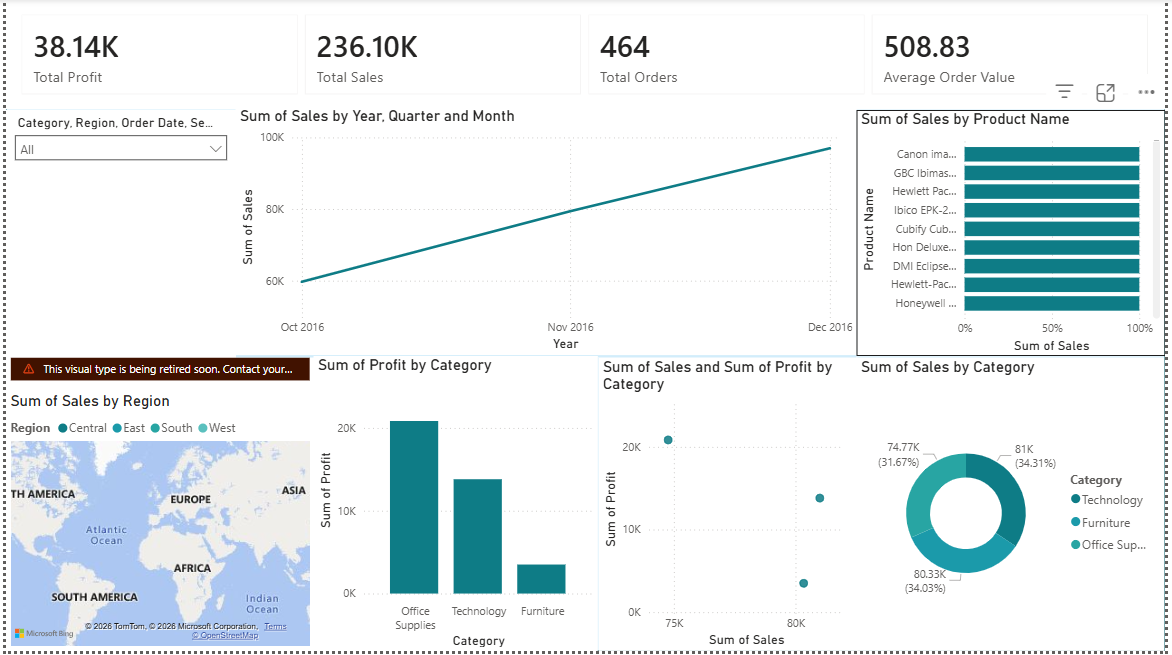

Layout of this report page (visuals, bound fields, positions):
{"tool":"powerbi","page":{"name":"Page 1","canvas":[1280,720],"ordinal":0},"visuals":[{"type":"shape","box":[0,0,1280,720],"z":0},{"type":"cardVisual","fields":{"Data":["Sum(Sample - Superstore.Profit)","Sum(Sample - Superstore.Sales)","Sample - Superstore.TotalOrders","Sample - Superstore.Average Order Value"]},"box":[0,0,1280,122],"z":1000},{"type":"lineChart","fields":{"Category":["Sample - Superstore.Order Date.Variation.Date Hierarchy.Year","Sample - Superstore.Order Date.Variation.Date Hierarchy.Quarter","Sample - Superstore.Order Date.Variation.Date Hierarchy.Month","Sample - Superstore.Order Date.Variation.Date Hierarchy.Day"],"Y":["Sum(Sample - Superstore.Sales)"]},"box":[254,120,686,274],"z":2000},{"type":"hundredPercentStackedBarChart","fields":{"Category":["Sample - Superstore.Product Name"],"Y":["Sum(Sample - Superstore.Sales)"]},"box":[940,122,340,272],"z":3000},{"type":"donutChart","fields":{"Category":["Sample - Superstore.Category"],"Y":["Sum(Sample - Superstore.Sales)"]},"box":[940,396,340,324],"z":4000},{"type":"clusteredColumnChart","fields":{"Category":["Sample - Superstore.Category"],"Y":["Sum(Sample - Superstore.Profit)"]},"box":[340,394,314,326],"z":6000},{"type":"scatterChart","fields":{"X":["Sum(Sample - Superstore.Sales)"],"Y":["Sum(Sample - Superstore.Profit)"],"Category":["Sample - Superstore.Category"]},"box":[654,396,286,324],"z":7000},{"type":"slicer","fields":{"Values":["Sample - Superstore.Category","Sample - Superstore.Region","Sample - Superstore.Order Date","Sample - Superstore.Segment"]},"box":[0,122,254,274],"z":8000},{"type":"filledMap","fields":{"Series":["Sample - Superstore.Region"]},"box":[0,396,340,324],"z":9002}]}

Visuals, with their boxes in screenshot pixels (x1, y1, x2, y2), scaled from the page's 1280x720 canvas onto the 1172x655 screenshot:
shape: 0,0,1171,654
cardVisual - Sum(Sample - Superstore.Profit) x Sum(Sample - Superstore.Sales): 0,0,1171,111
lineChart - Sample - Superstore.Order Date.Variation.Date Hierarchy.Year x Sample - Superstore.Order Date.Variation.Date Hierarchy.Quarter: 233,109,861,358
hundredPercentStackedBarChart - Sample - Superstore.Product Name x Sum(Sample - Superstore.Sales): 861,111,1171,358
donutChart - Sample - Superstore.Category x Sum(Sample - Superstore.Sales): 861,360,1171,654
clusteredColumnChart - Sample - Superstore.Category x Sum(Sample - Superstore.Profit): 311,358,599,654
scatterChart - Sum(Sample - Superstore.Sales) x Sum(Sample - Superstore.Profit): 599,360,861,654
slicer - Sample - Superstore.Category x Sample - Superstore.Region: 0,111,233,360
filledMap - Sample - Superstore.Region: 0,360,311,654
